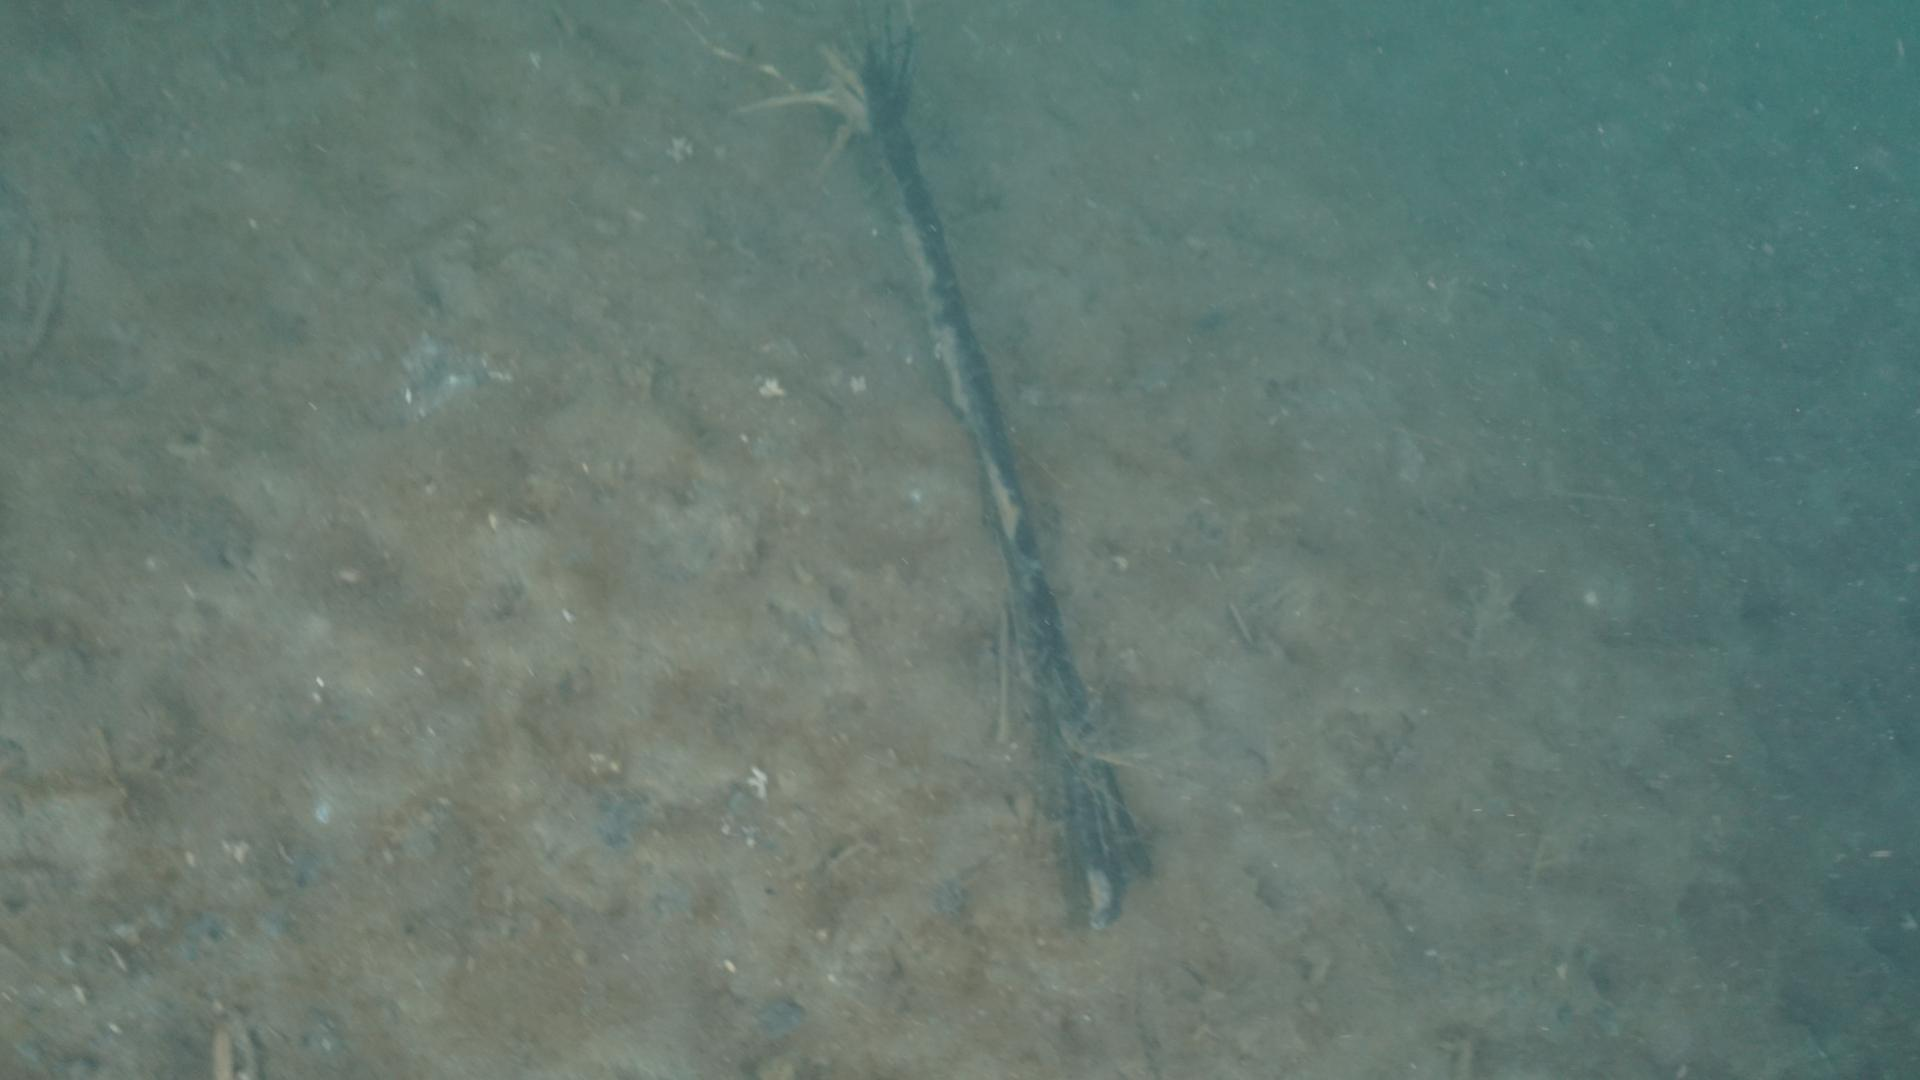wood: (659, 0, 1153, 934)
